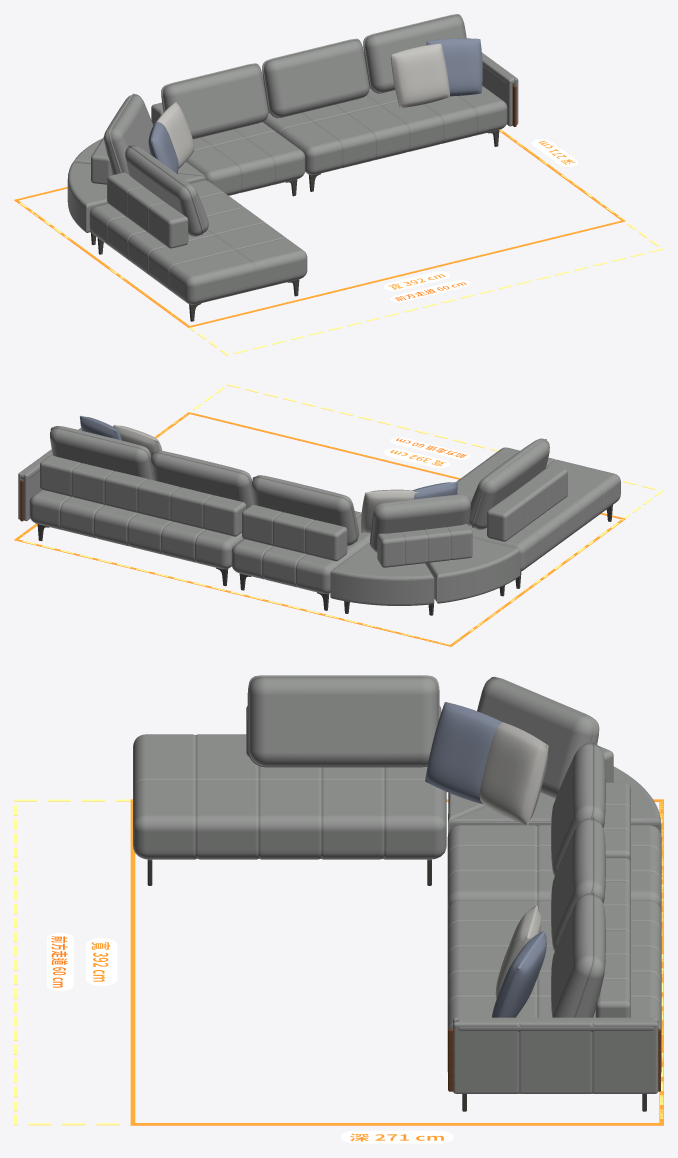
The model's file is ownAthena-f.glb.
The picture shows the model from 3 angles, top to bottom: view 1: azimuth 30°, elevation 25°; view 2: azimuth 150°, elevation 25°; view 3: azimuth 270°, elevation 25°; orthographic projection. The views are drawn at different scales.
Parts seen in each view (by area): view 1: object 21, object 10, object 15, object 12, object 16, ar-frame, object 14, object 22, object 29, object 23, object 20, object 28 (+6 smaller); view 2: object 11, object 10, object 21, ar-frame, object 18, object 12, object 17, object 13, object 16, object 15, object 14, object 22 (+8 smaller); view 3: object 21, object 23, object 25, object 10, ar-frame, object 12, object 20, object 14, object 31, object 30, object 11, object 15 (+6 smaller).
Part boxes in pixels (box(x1,y1,x2,y2)): object 21: box(89, 180, 307, 304); object 10: box(263, 86, 507, 174); object 15: box(262, 38, 369, 118); object 12: box(186, 122, 305, 195); object 16: box(161, 63, 268, 139); ar-frame: box(14, 129, 663, 355); object 14: box(363, 14, 466, 93); object 22: box(107, 172, 188, 248); object 29: box(390, 43, 450, 107); object 23: box(125, 145, 208, 236); object 20: box(104, 93, 153, 174); object 28: box(426, 38, 482, 96); object 11: box(40, 455, 246, 536); object 10: box(29, 489, 243, 569); object 21: box(456, 447, 620, 571); ar-frame: box(14, 384, 663, 646); object 18: box(330, 543, 434, 605); object 12: box(231, 511, 370, 593); object 17: box(425, 538, 520, 603); object 13: box(242, 504, 347, 561); object 16: box(252, 475, 359, 545); object 15: box(151, 450, 254, 508); object 14: box(50, 426, 153, 479); object 22: box(487, 465, 567, 541); object 21: box(133, 734, 446, 859); object 23: box(247, 675, 439, 767); object 25: box(453, 1021, 658, 1093); object 10: box(447, 900, 661, 1073); ar-frame: box(14, 799, 663, 1143); object 12: box(447, 825, 661, 911); object 20: box(477, 676, 599, 798); object 14: box(551, 892, 605, 1017); object 31: box(479, 722, 548, 824); object 30: box(425, 702, 502, 804); object 11: box(595, 858, 630, 1017); object 15: box(551, 817, 605, 951).
Size of the model in its own units: 4.17 by 0.8706 by 3.33.
11 materials, 6 textured.
